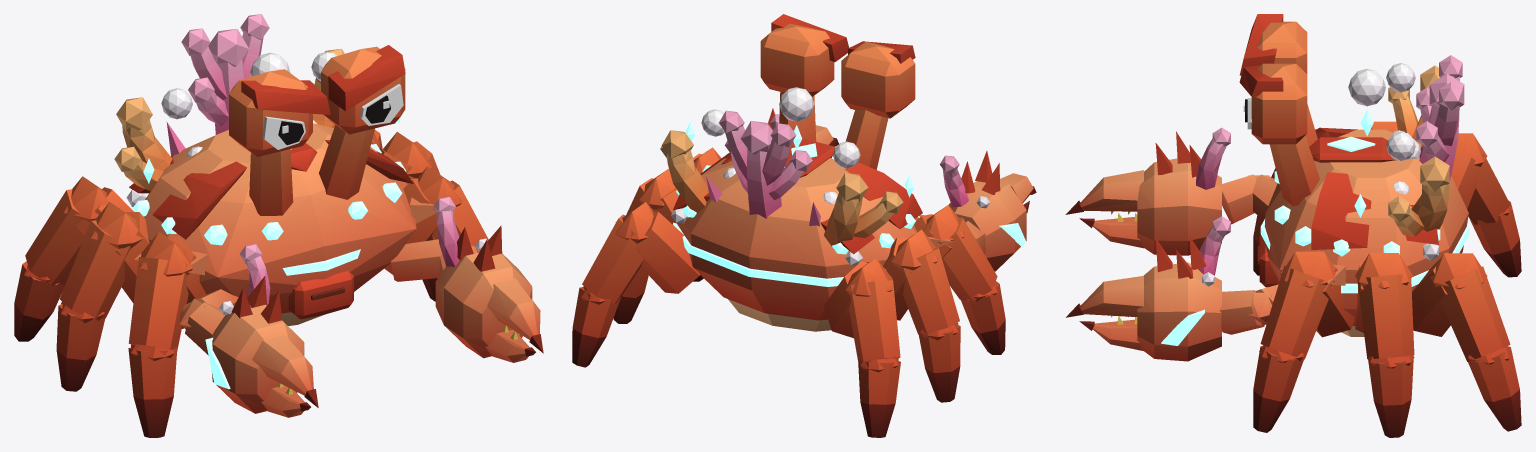
Rendered from CrabCrusher.glb.
3 renders of one model, left to right at view 1: azimuth 30°, elevation 25°; view 2: azimuth 150°, elevation 25°; view 3: azimuth 270°, elevation 25°, orthographic. The views are drawn at different scales.
Visible parts, largest first — view 1: CrabCrusher; view 2: CrabCrusher; view 3: CrabCrusher.
Boxes of the visible parts, x1=… form: CrabCrusher: x1=14, y1=14, x2=543, y2=437; CrabCrusher: x1=572, y1=14, x2=1036, y2=437; CrabCrusher: x1=1065, y1=14, x2=1521, y2=437.
Bounding box in the file's own units: 1.26 × 0.9975 × 1.35.
1 material, 1 textured.
